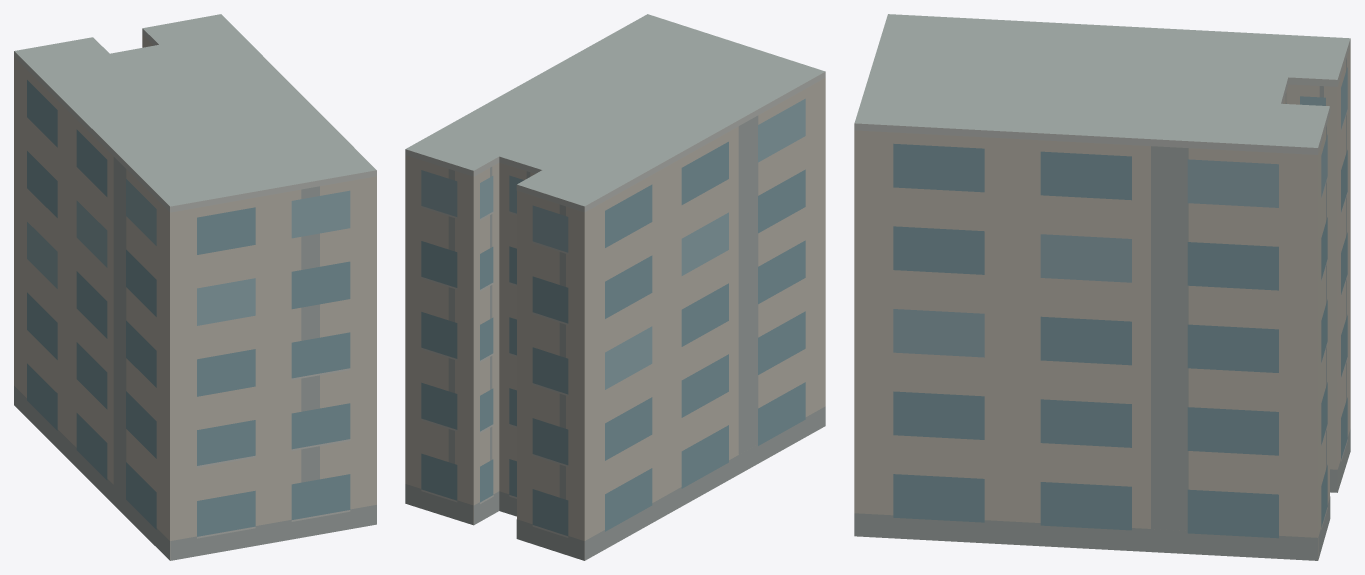
The model's file is survey-upis-32885780.glb.
3 views of the same model, side by side, from view 1: azimuth 30°, elevation 25°; view 2: azimuth 150°, elevation 25°; view 3: azimuth 270°, elevation 25° (orthographic). The views are drawn at different scales.
Parts seen in each view (by area): view 1: survey-upis-32885780.tmp; view 2: survey-upis-32885780.tmp; view 3: survey-upis-32885780.tmp.
Boxes of the visible parts, <box> form: survey-upis-32885780.tmp: <box>14,14,376,560</box>; survey-upis-32885780.tmp: <box>405,14,825,560</box>; survey-upis-32885780.tmp: <box>854,14,1350,560</box>.
Bounding box in the file's own units: 10.03 × 14.4 × 15.7.
